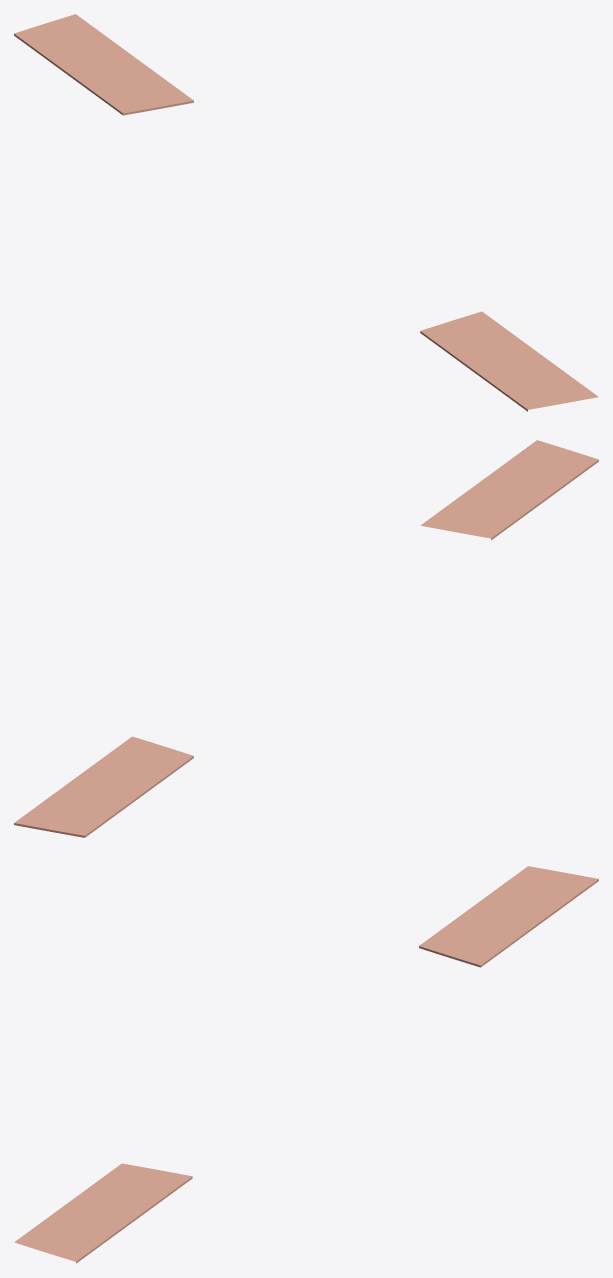
The model's file is HULLS, INTERNALS, ETC.__steering shelf concepts__P&S rudder shelf.gltf.
3 views of the same model, one above another, from view 1: azimuth 30°, elevation 25°; view 2: azimuth 150°, elevation 25°; view 3: azimuth 330°, elevation 25° (orthographic).
Size of the model in its own units: 0.4318 by 0.0127 by 5.9.
